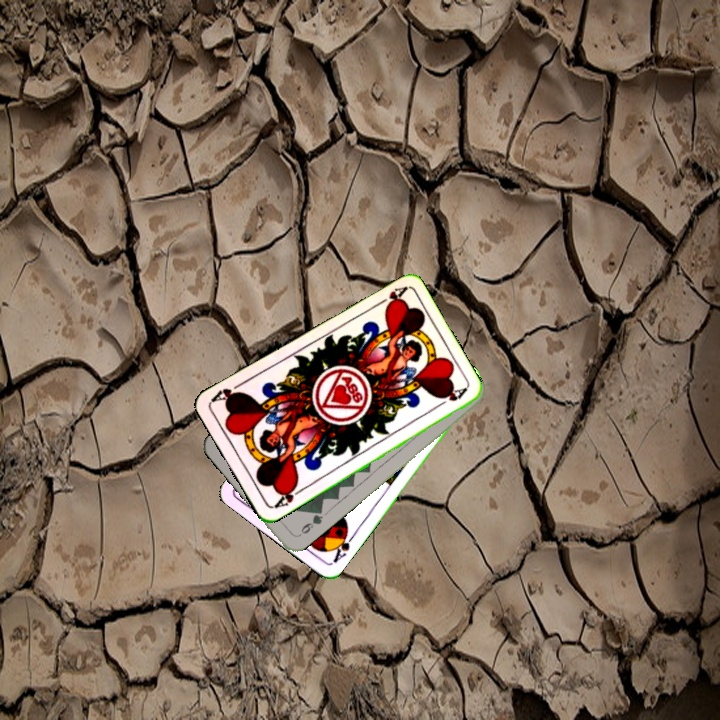G9: (293, 506, 326, 540)
HA: (270, 480, 306, 511), (371, 283, 409, 312)
SA: (328, 527, 357, 566)
